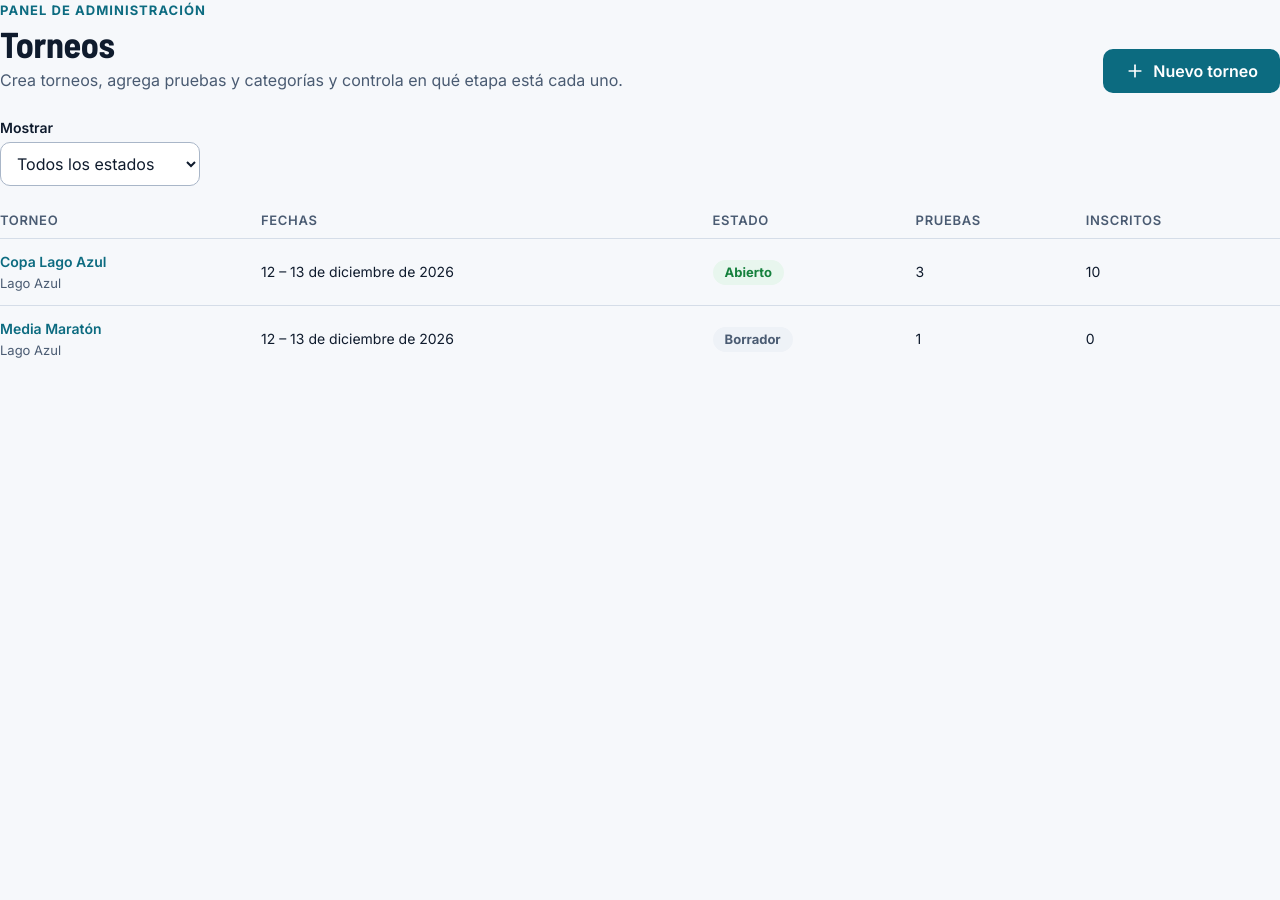
Test case: TorneosPage › crea un torneo desde el diálogo
Expected: the table named "Torneos" is shown, [0,210,1279,372]
Click the button "Nuevo torneo": (1192, 70) [1103,48,1279,92]
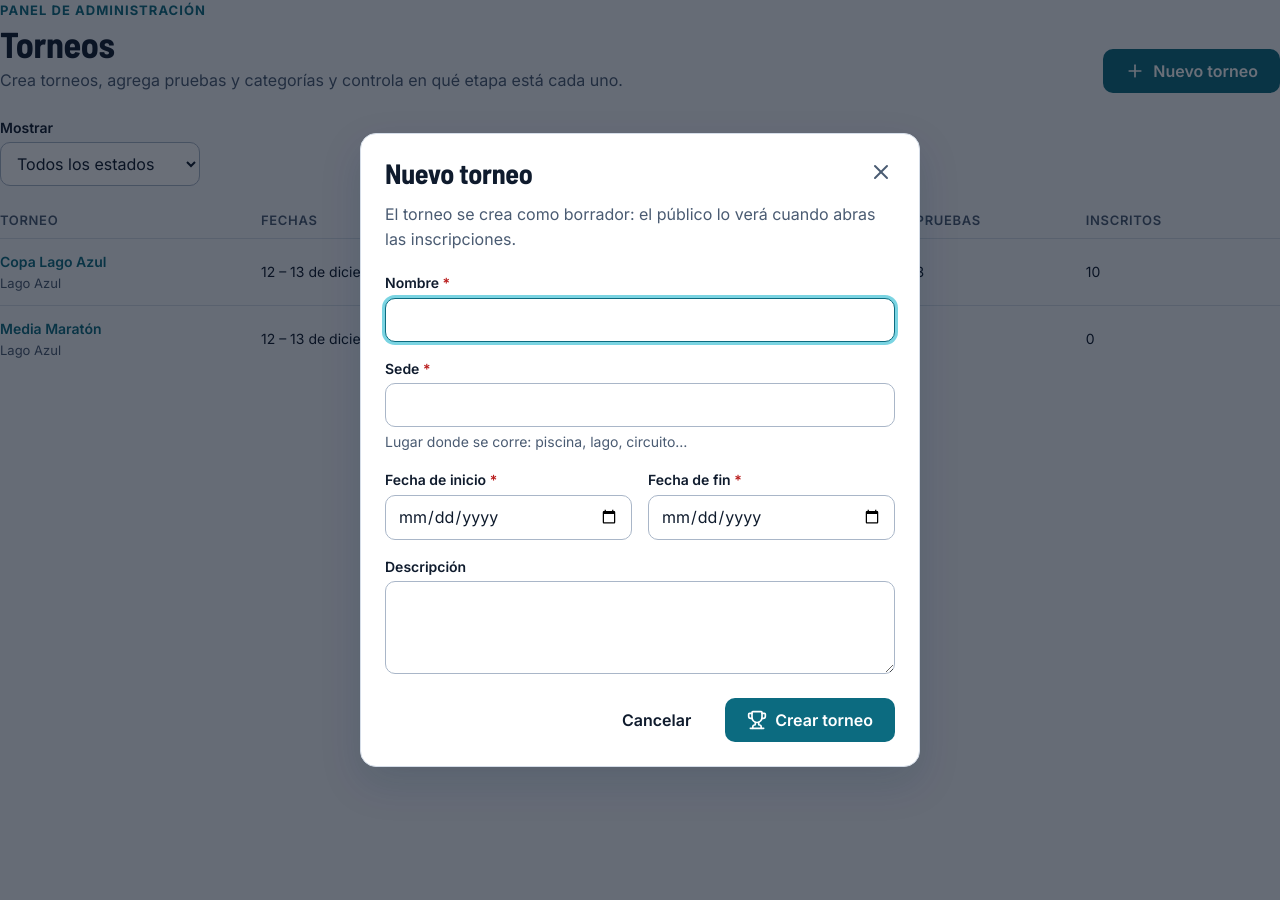
In the field labelled "Nombre *": (640, 320) [385,298,895,342], type "Copa de Verano"
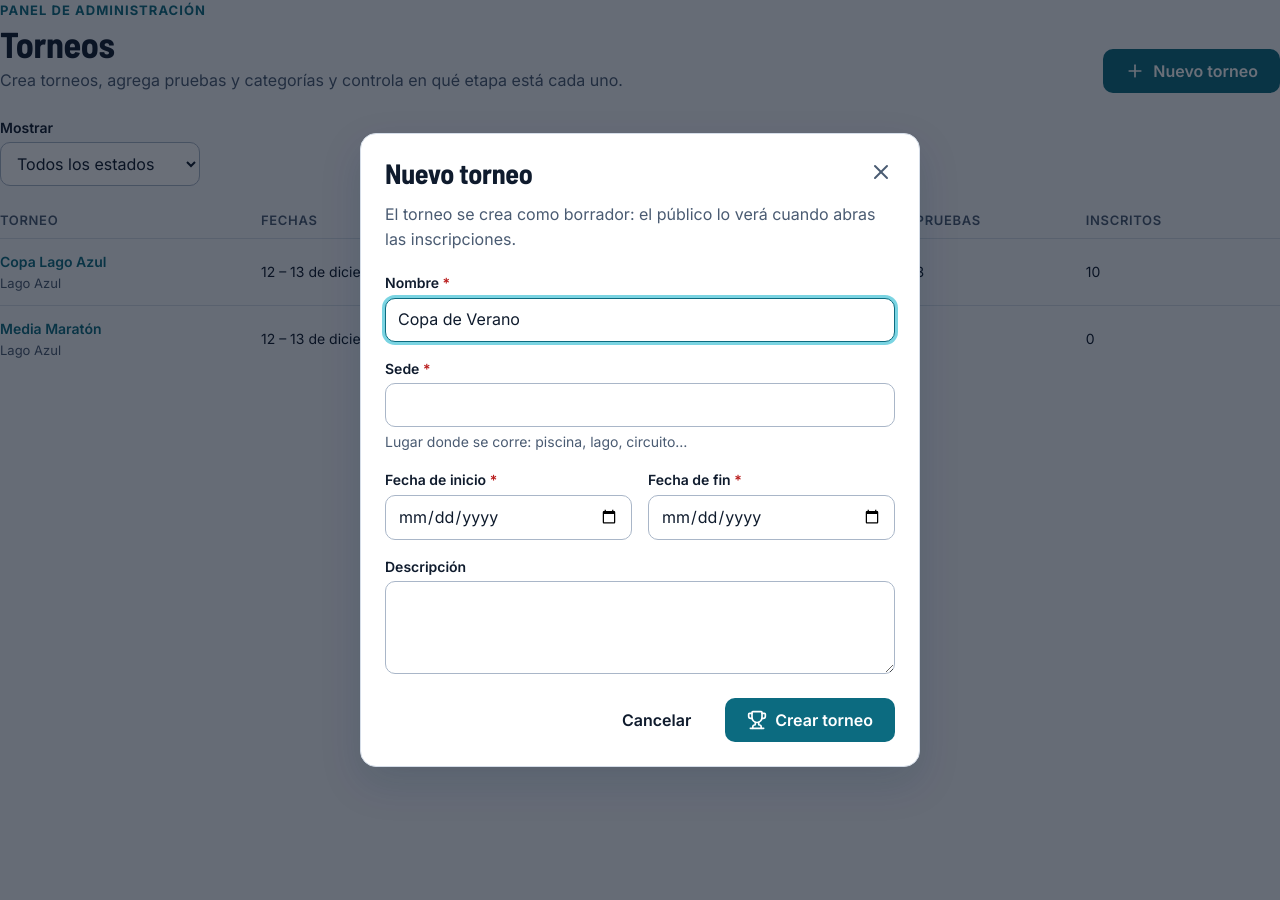
In the field labelled "Sede *": (640, 405) [385,383,895,427], type "Club Náutico"
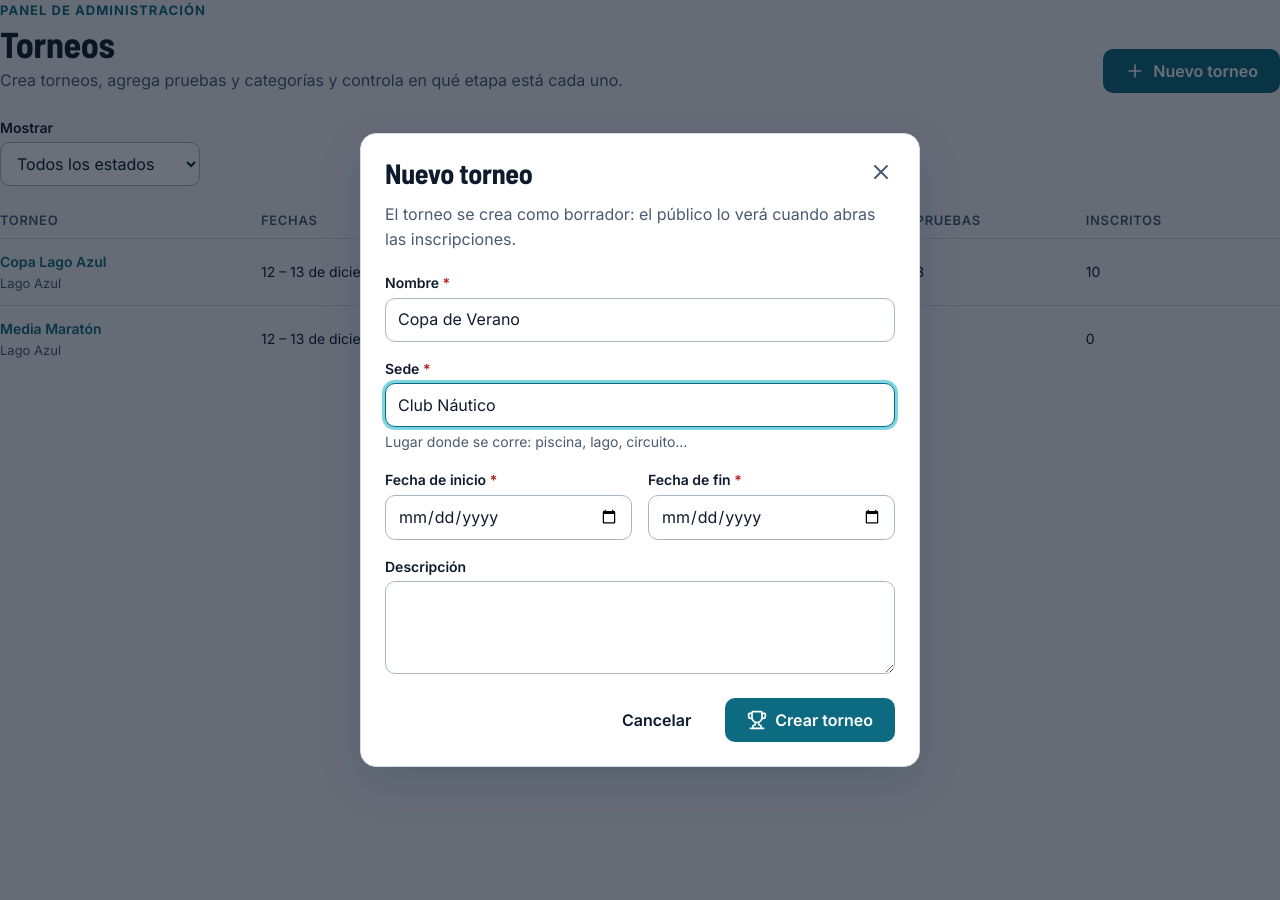
In the date field labelled "Fecha de inicio *": (508, 517) [385,495,632,540], type "2027-01-15"
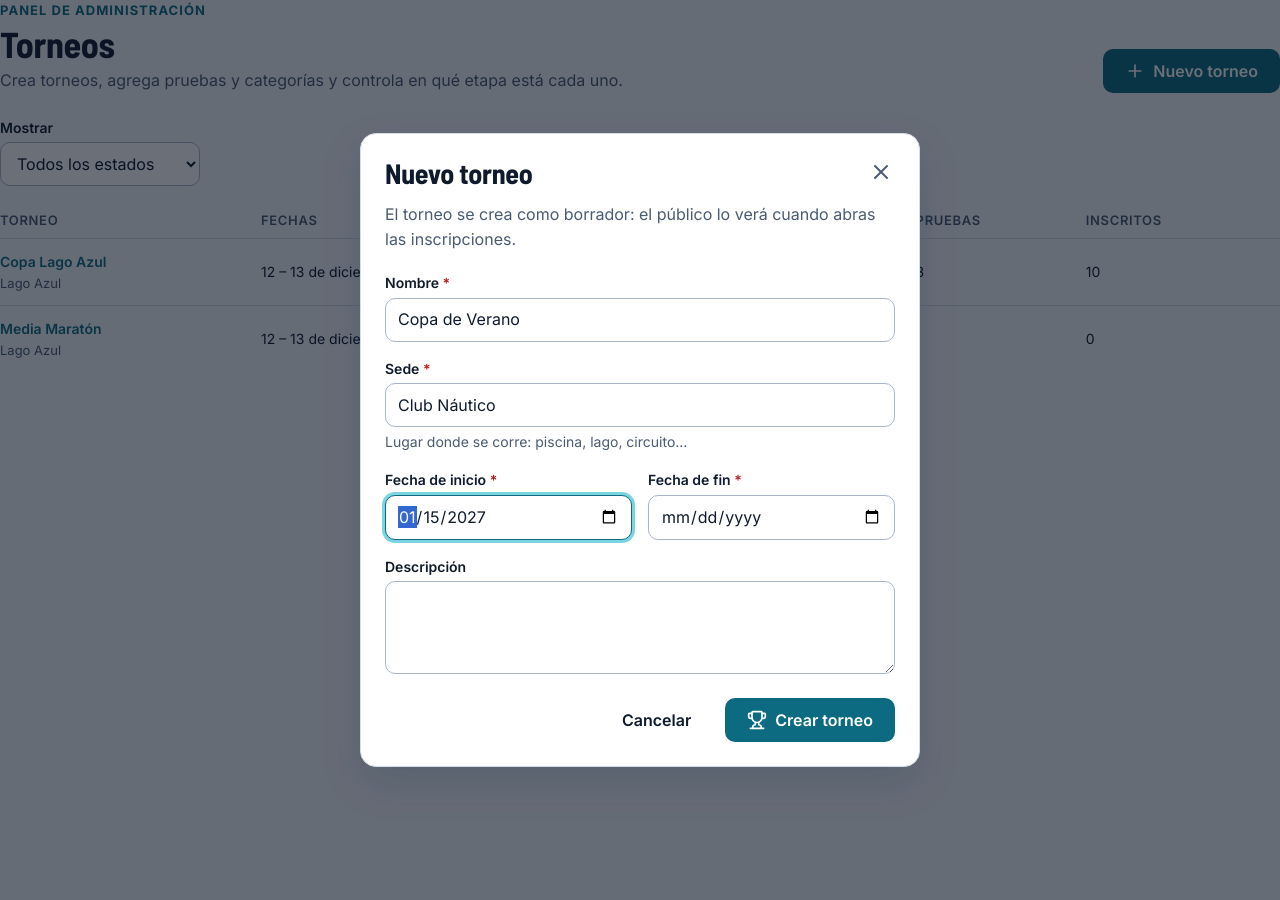
In the date field labelled "Fecha de fin *": (772, 517) [648,495,895,540], type "2027-01-16"
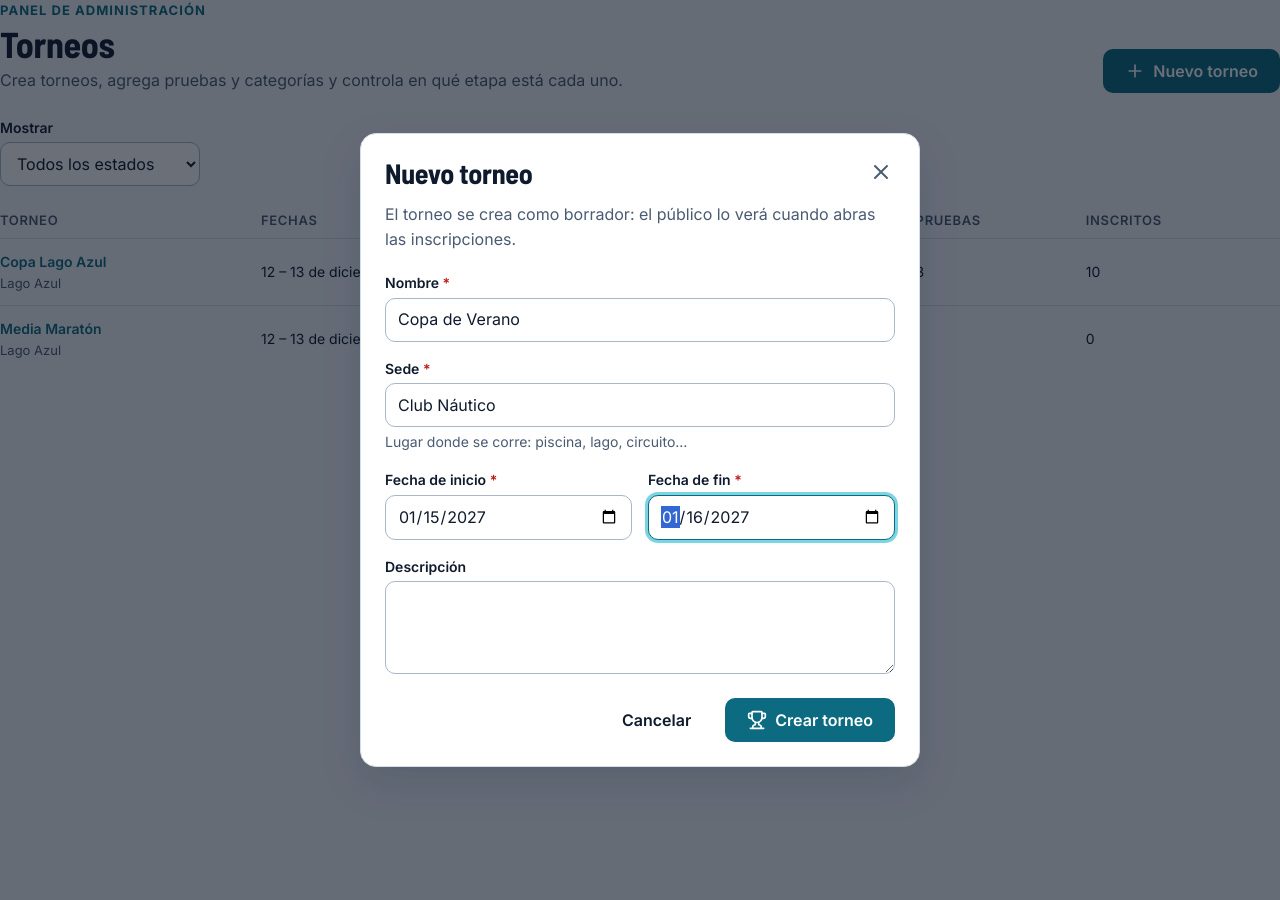
Click the button "Crear torneo": (810, 720) [725,698,895,742]
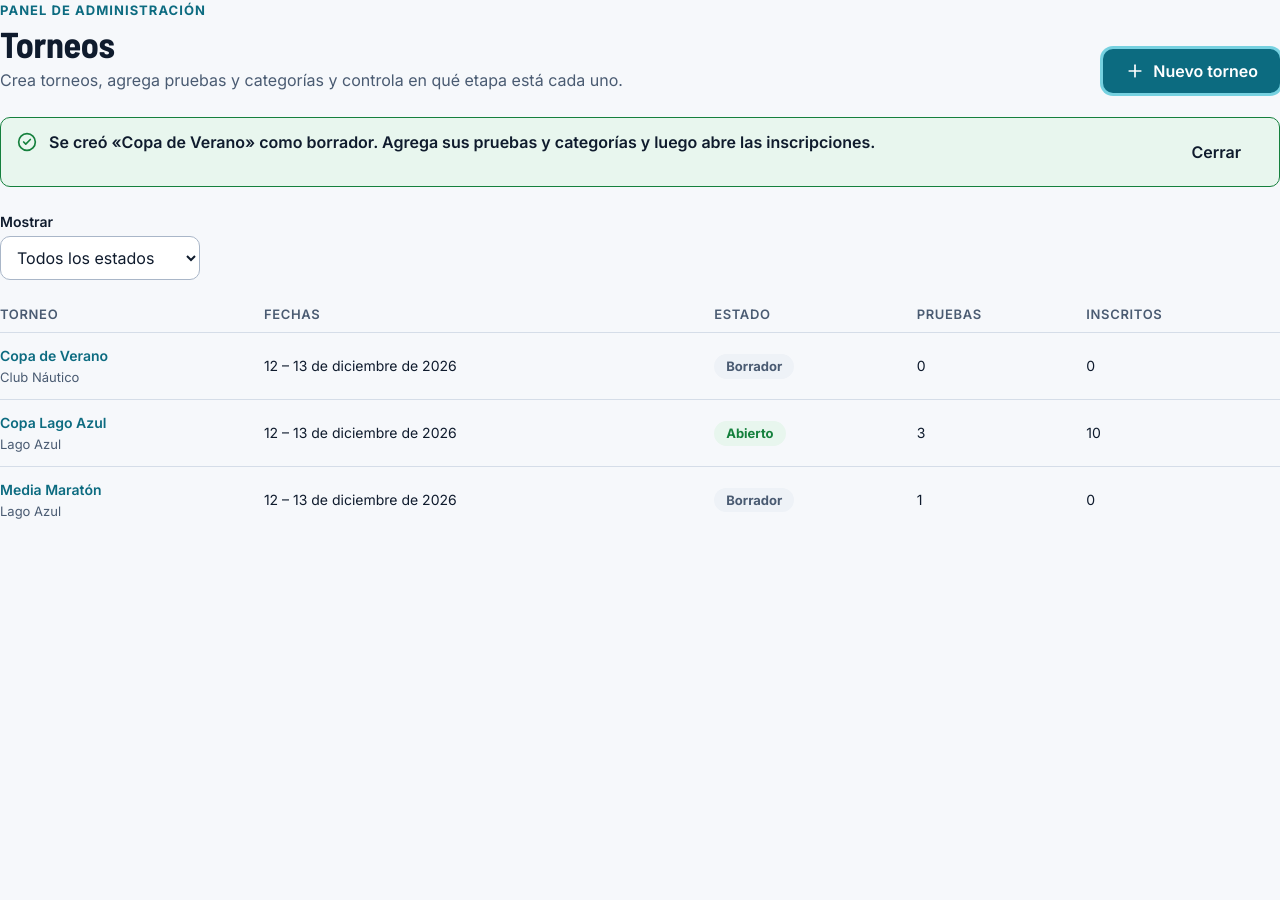
Now the link "Copa de Verano" is shown, box [0,347,108,364]
Now the dialog is gone
